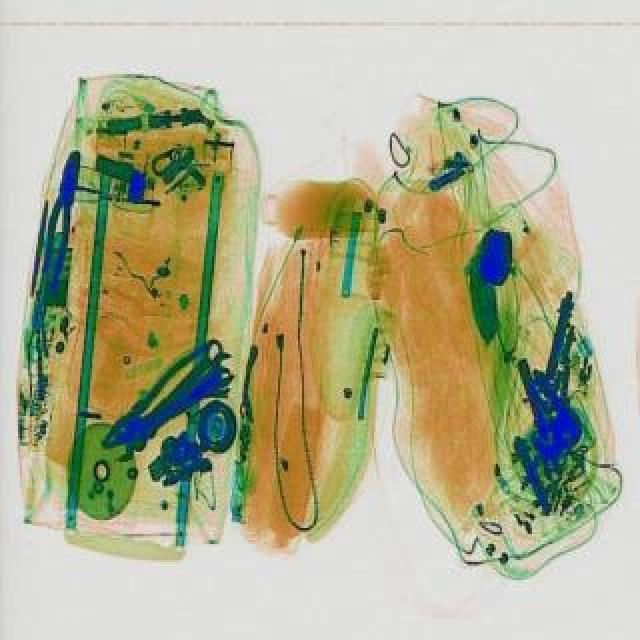scissors: (100, 328, 226, 460)
wrench: (86, 338, 230, 458), (30, 146, 86, 290)
